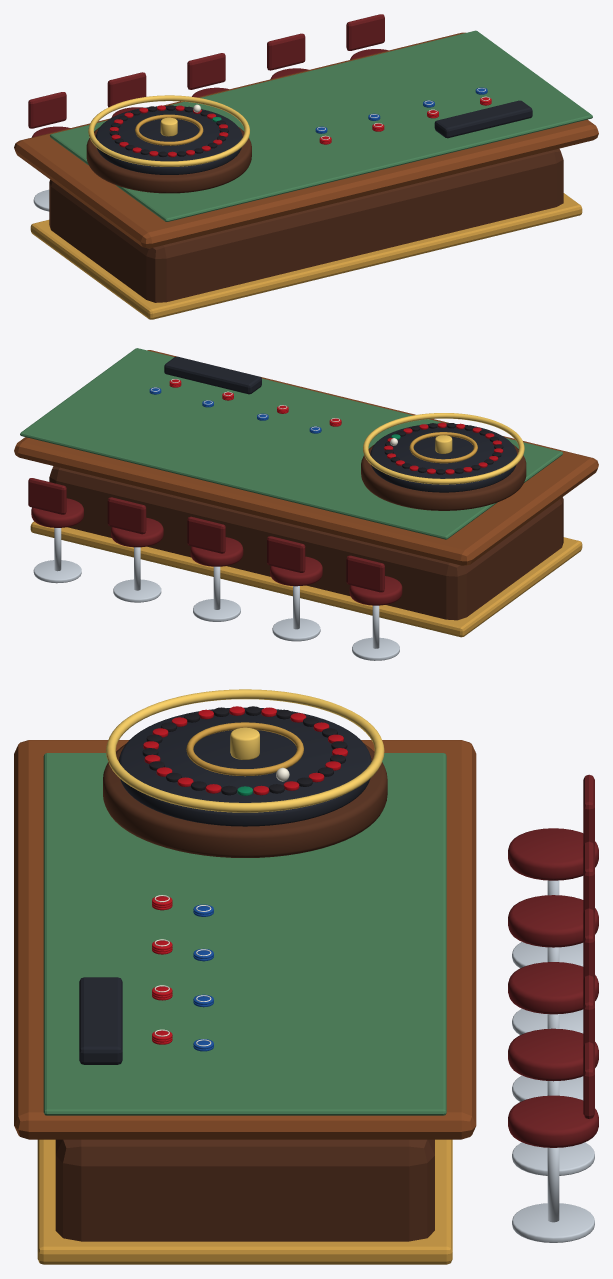
Rendered from roulette_table.glb.
3 renders of one model, top to bottom at view 1: azimuth 30°, elevation 25°; view 2: azimuth 150°, elevation 25°; view 3: azimuth 270°, elevation 25°, orthographic. The views are drawn at different scales.
Visible parts, largest first — view 1: Roulette felt, Roulette mahogany pedestal, Roulette top, Roulette brass plinth, Roulette wheel, Roulette bowl, Outer brass wheel rim, Dealer rack, Stool back.008, Stool back.007, Stool back.009, Stool back.005 (+2 smaller); view 2: Roulette felt, Roulette mahogany pedestal, Roulette top, Roulette brass plinth, Roulette wheel, Roulette bowl, Outer brass wheel rim, Dealer rack, Stool back.008, Stool back.009, Stool back.007, Stool back.005 (+12 smaller); view 3: Roulette felt, Roulette mahogany pedestal, Roulette top, Roulette wheel, Roulette brass plinth, Roulette bowl, Outer brass wheel rim, Leather seat.009, Dealer rack, Leather seat.005, Leather seat.006, Leather seat.007 (+14 smaller).
Part boxes in pixels (x1=…): Roulette felt: x1=50, y1=30, x2=592, y2=221; Roulette mahogany pedestal: x1=49, y1=148, x2=563, y2=302; Roulette top: x1=14, y1=32, x2=598, y2=248; Roulette brass plinth: x1=30, y1=193, x2=582, y2=319; Roulette wheel: x1=96, y1=106, x2=242, y2=174; Roulette bowl: x1=86, y1=127, x2=251, y2=193; Outer brass wheel rim: x1=88, y1=95, x2=249, y2=166; Dealer rack: x1=434, y1=100, x2=532, y2=138; Stool back.008: x1=267, y1=33, x2=305, y2=70; Stool back.007: x1=187, y1=53, x2=225, y2=89; Stool back.009: x1=346, y1=14, x2=384, y2=50; Stool back.005: x1=28, y1=92, x2=66, y2=128; Roulette felt: x1=20, y1=348, x2=562, y2=539; Roulette mahogany pedestal: x1=49, y1=466, x2=563, y2=620; Roulette top: x1=14, y1=350, x2=598, y2=565; Roulette brass plinth: x1=30, y1=521, x2=582, y2=637; Roulette wheel: x1=370, y1=423, x2=516, y2=492; Roulette bowl: x1=361, y1=444, x2=526, y2=510; Outer brass wheel rim: x1=363, y1=413, x2=524, y2=484; Dealer rack: x1=164, y1=356, x2=261, y2=394; Stool back.008: x1=107, y1=497, x2=146, y2=534; Stool back.009: x1=28, y1=478, x2=66, y2=514; Stool back.007: x1=187, y1=516, x2=225, y2=553; Stool back.005: x1=346, y1=555, x2=384, y2=592; Roulette felt: x1=43, y1=753, x2=446, y2=1115; Roulette mahogany pedestal: x1=55, y1=1139, x2=434, y2=1241; Roulette top: x1=14, y1=740, x2=476, y2=1139; Roulette wheel: x1=119, y1=707, x2=371, y2=826; Roulette brass plinth: x1=37, y1=1139, x2=452, y2=1264; Roulette bowl: x1=103, y1=743, x2=387, y2=857; Outer brass wheel rim: x1=106, y1=689, x2=384, y2=812; Leather seat.009: x1=508, y1=1095, x2=598, y2=1147; Dealer rack: x1=79, y1=977, x2=122, y2=1064; Leather seat.005: x1=508, y1=828, x2=598, y2=880; Leather seat.006: x1=508, y1=895, x2=598, y2=947; Leather seat.007: x1=508, y1=962, x2=598, y2=1014.
Bounding box in the file's own units: 4.6 × 1.37 × 2.96.
